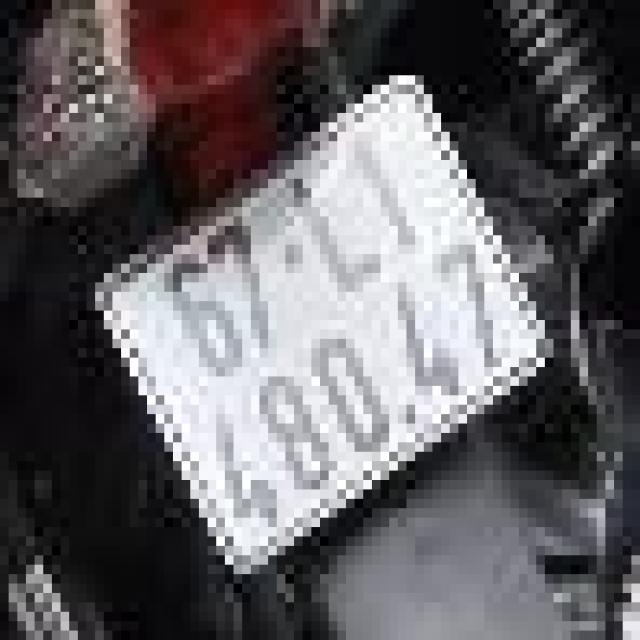0: (287, 309, 409, 471)
1: (333, 118, 428, 264)
4: (374, 269, 479, 416), (190, 398, 296, 539)
6: (149, 239, 259, 390)
7: (422, 226, 538, 389), (191, 208, 297, 355)
8: (238, 354, 354, 509)
L: (266, 146, 398, 305)
